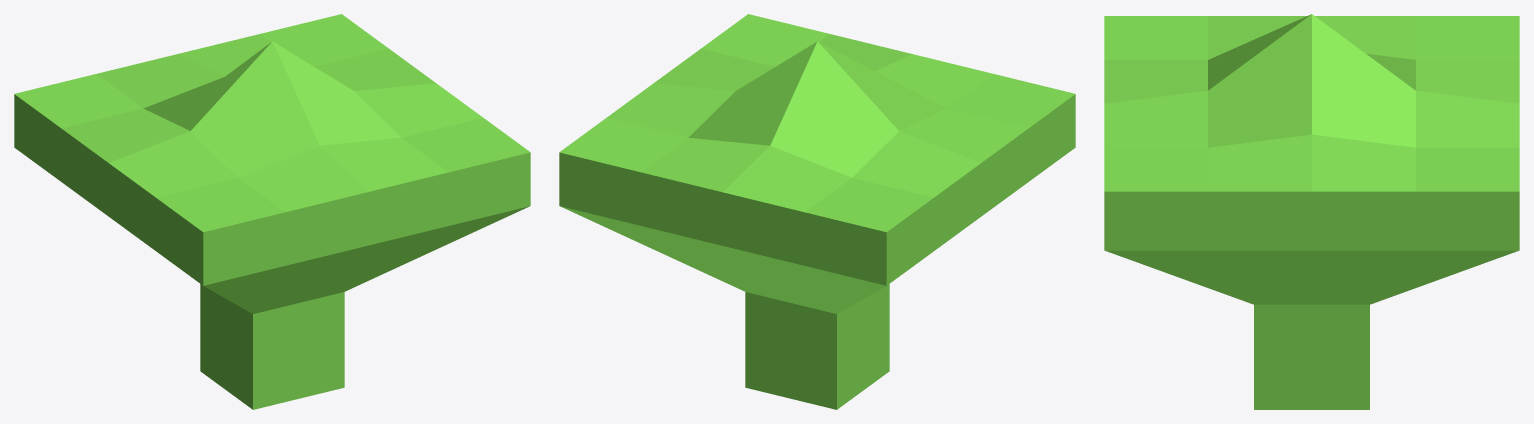
File: tower.gltf
The picture shows the model from 3 angles, left to right: view 1: azimuth 30°, elevation 25°; view 2: azimuth 150°, elevation 25°; view 3: azimuth 270°, elevation 25°; orthographic projection. The views are drawn at different scales.
Visible parts, largest first — view 1: Cube; view 2: Cube; view 3: Cube.
Part boxes in pixels (<box>): Cube: <box>14,14,530,409</box>; Cube: <box>559,14,1075,409</box>; Cube: <box>1104,14,1519,409</box>.
Size of the model in its own units: 7.16 by 7.06 by 7.16.
